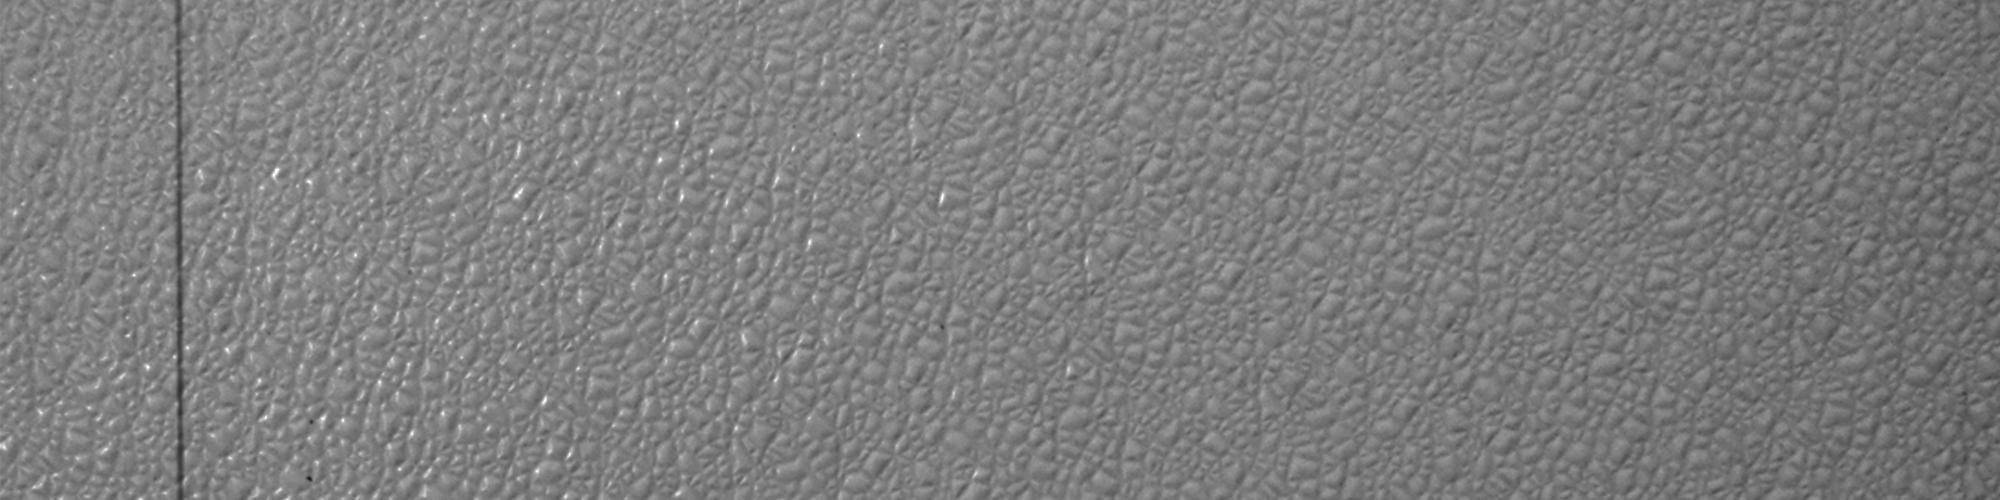DieDrag: (159, 1, 202, 500)
